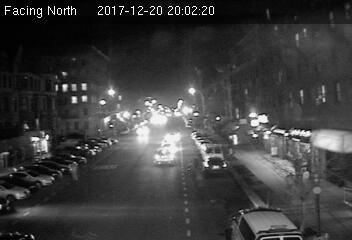car: (201, 157, 229, 175), (154, 147, 175, 165), (135, 126, 151, 137)
police: (226, 206, 302, 240)
